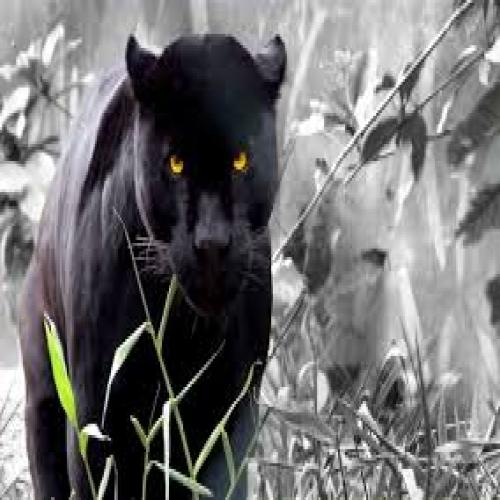panther-endangered: (19, 32, 290, 500)
